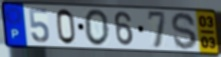0: (55, 8, 77, 46)
5: (27, 7, 51, 44)
6: (113, 11, 135, 47)
7: (146, 10, 168, 50)
O: (83, 9, 111, 48)
S: (170, 11, 199, 52)
